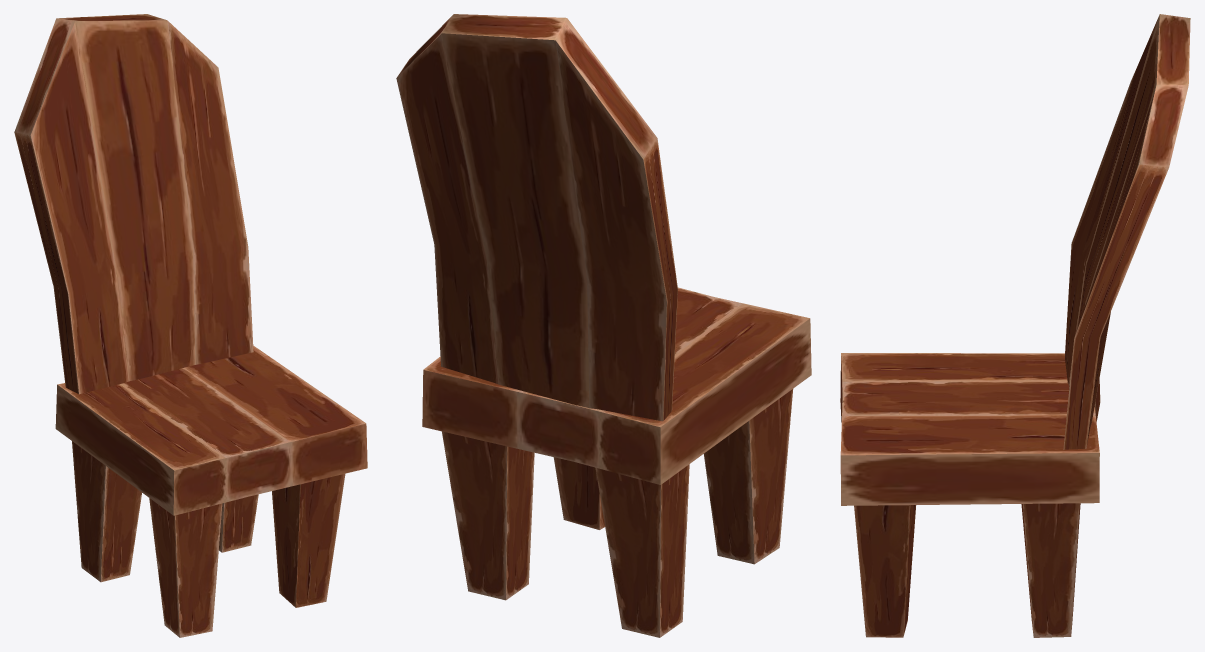
The model's file is SM_PROP_chair_02.glb.
3 renders of one model, left to right at view 1: azimuth 30°, elevation 25°; view 2: azimuth 150°, elevation 25°; view 3: azimuth 270°, elevation 25°, orthographic. The views are drawn at different scales.
Visible parts, largest first — view 1: SM_PROP_chair_02_EXPORT; view 2: SM_PROP_chair_02_EXPORT; view 3: SM_PROP_chair_02_EXPORT.
Part boxes in pixels (x1,y1,x2,y2): SM_PROP_chair_02_EXPORT: (14,14,367,637); SM_PROP_chair_02_EXPORT: (396,14,811,637); SM_PROP_chair_02_EXPORT: (840,14,1190,637).
Bounding box in the file's own units: 0.4963 × 1.17 × 0.6606.
1 material, 1 textured.
